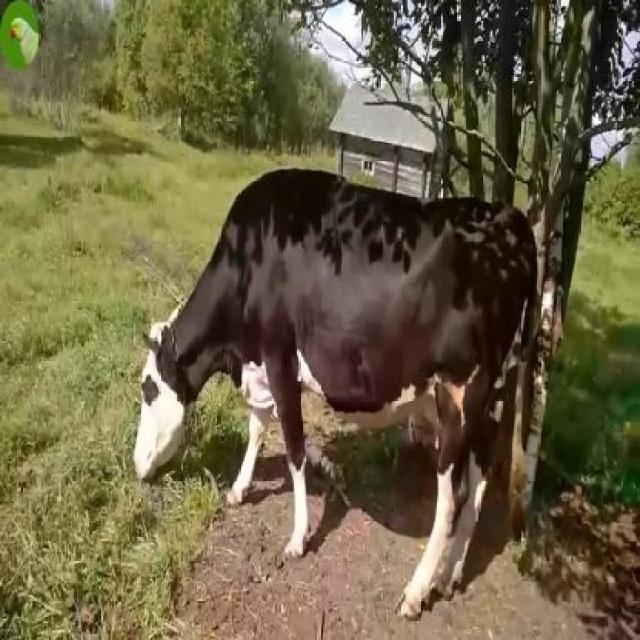Cow: (134, 169, 537, 606)
